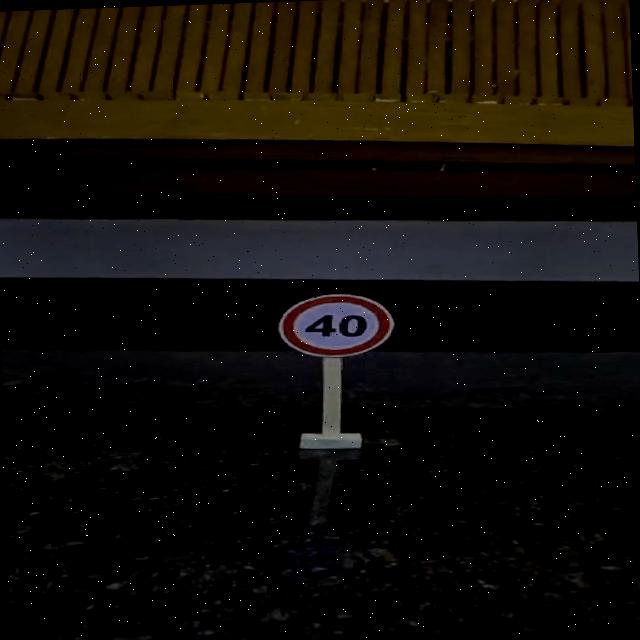Speed40: (272, 290, 400, 360)
